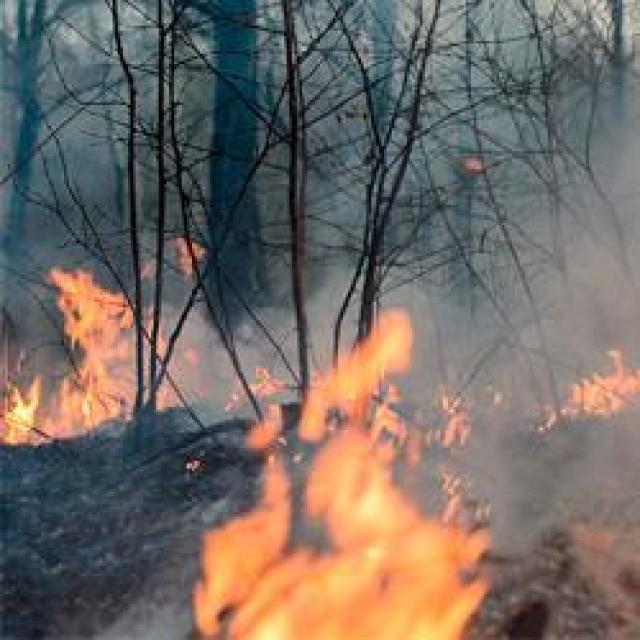smoke: (427, 299, 515, 400), (471, 404, 551, 511), (595, 113, 640, 299), (544, 265, 640, 345), (168, 322, 234, 411), (586, 418, 640, 491)
